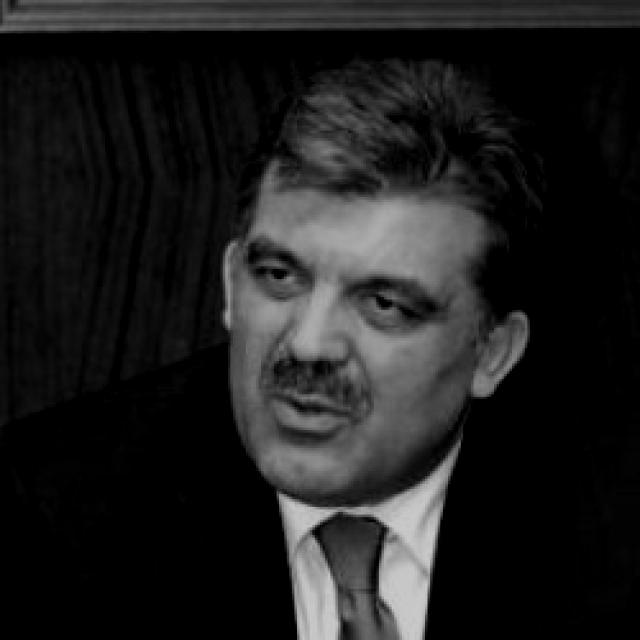real: (194, 54, 556, 501), (216, 245, 461, 340)
